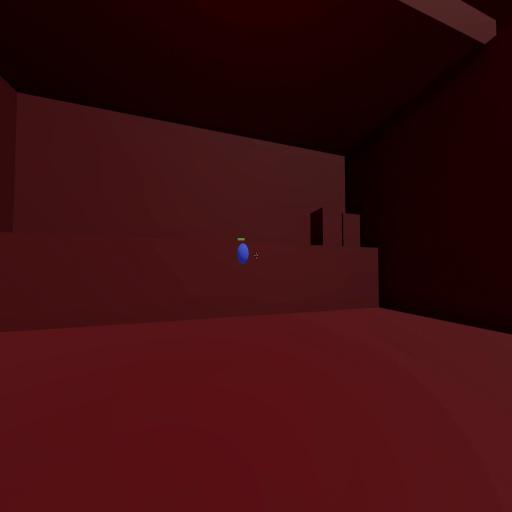Crosshair: (254, 252, 258, 260)
Target: (237, 242, 249, 266)
